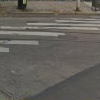crosswalk: (0, 18, 99, 53)
